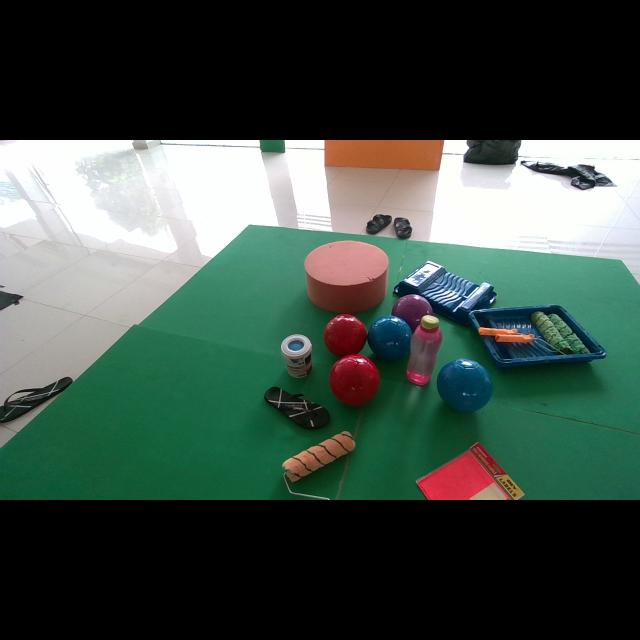B: (436, 359, 492, 412), (368, 315, 412, 359)
P: (391, 294, 434, 332)
R: (329, 354, 380, 406), (324, 314, 368, 358)
